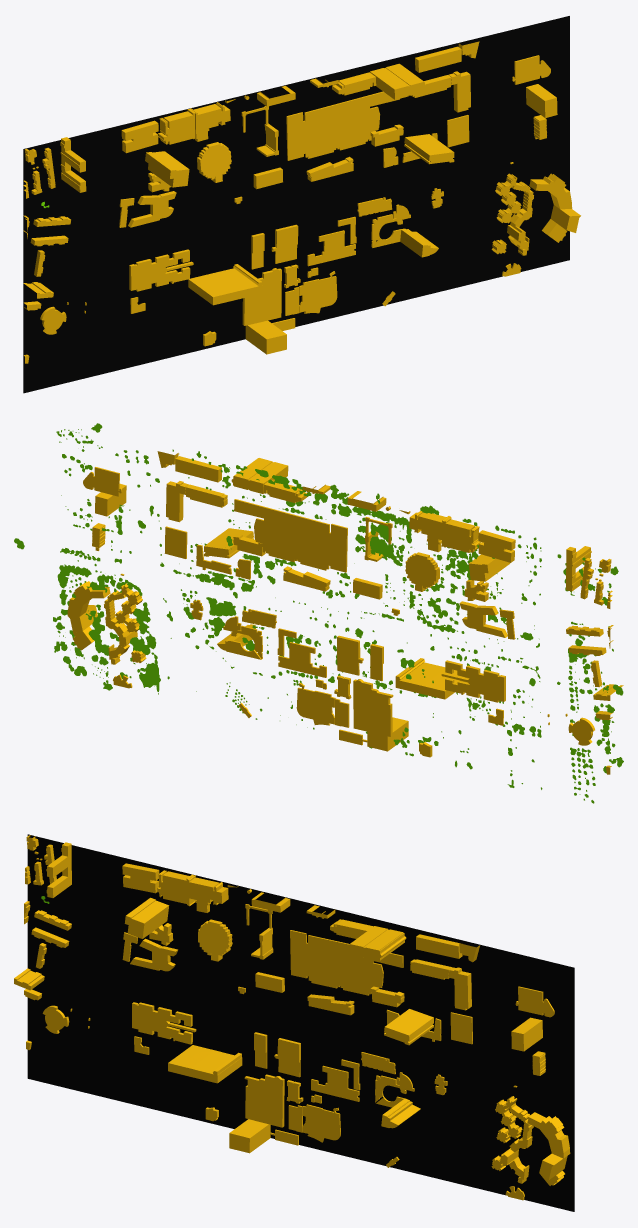
File: existing_buildings_01.glb
3 views of the same model, one above another, from view 1: azimuth 30°, elevation 25°; view 2: azimuth 150°, elevation 25°; view 3: azimuth 330°, elevation 25° (orthographic).
Parts seen in each view (by area): view 1: Layer 04, existing_building - Copy, existing_building; view 2: existing_building - Copy, treesurface, existing_building; view 3: Layer 04, existing_building - Copy, existing_building.
Boxes of the visible parts, x1,y1,x2,y2 form: Layer 04: (23,16,569,393); existing_building - Copy: (23,41,572,346); existing_building: (23,63,580,363); existing_building - Copy: (67,451,613,757); treesurface: (14,423,623,803); existing_building: (68,458,623,774); Layer 04: (27,834,574,1211); existing_building - Copy: (24,835,570,1200); existing_building: (14,854,567,1180).
Bounding box in the file's own units: 1106 × 458 × 78.19.
